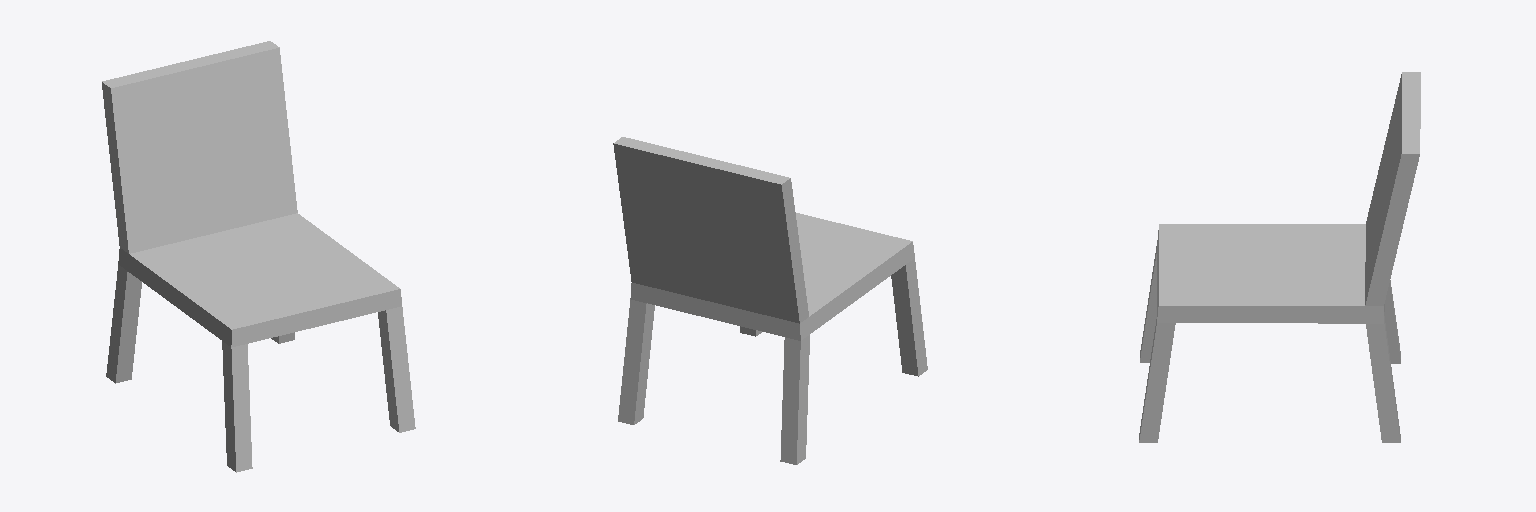
File: sChair0.obj
The picture shows the model from 3 angles: view 1: azimuth 30°, elevation 25°; view 2: azimuth 150°, elevation 25°; view 3: azimuth 270°, elevation 25°; orthographic projection.
Visible parts, largest first — view 1: Rectangle60; view 2: Rectangle60; view 3: Rectangle60.
Boxes of the visible parts, box(x1,y1,x2,y2) form: Rectangle60: box(102, 41, 415, 472); Rectangle60: box(613, 137, 927, 464); Rectangle60: box(1139, 72, 1420, 442).
Size of the model in its own units: 44.32 by 67.56 by 60.18.